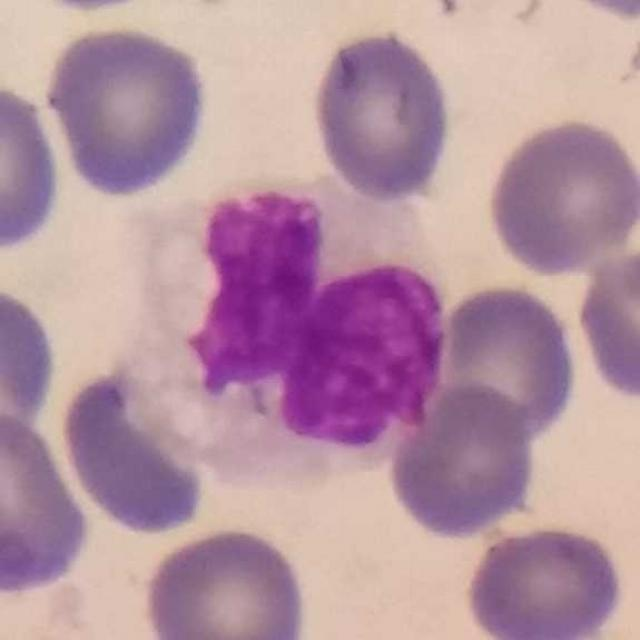Monocyte: (102, 166, 457, 490)
RBC: (40, 21, 215, 202), (55, 361, 218, 538), (306, 26, 458, 204), (481, 114, 640, 278), (430, 280, 582, 448), (384, 380, 540, 543), (138, 522, 313, 640), (461, 520, 630, 640), (0, 406, 95, 599), (0, 77, 67, 258), (572, 245, 640, 405), (0, 279, 61, 452), (542, 0, 640, 23)
